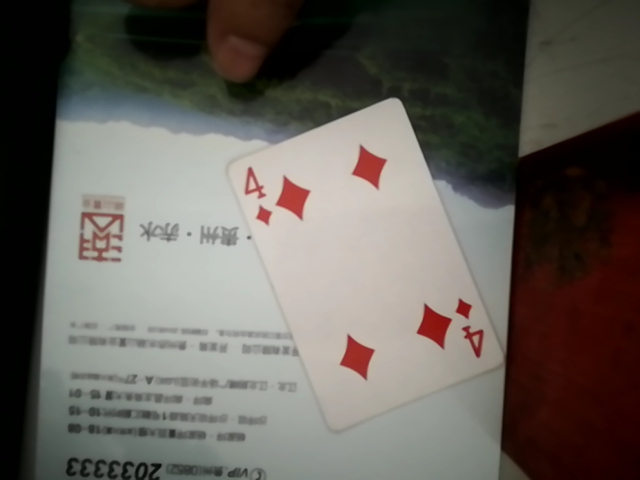fk 4: (214, 82, 504, 441)
